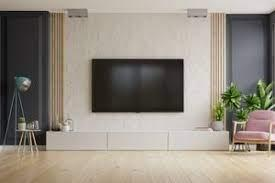TV: (87, 52, 189, 120)
chair: (233, 112, 275, 153)
console: (45, 130, 229, 149)
table: (19, 128, 42, 156)
